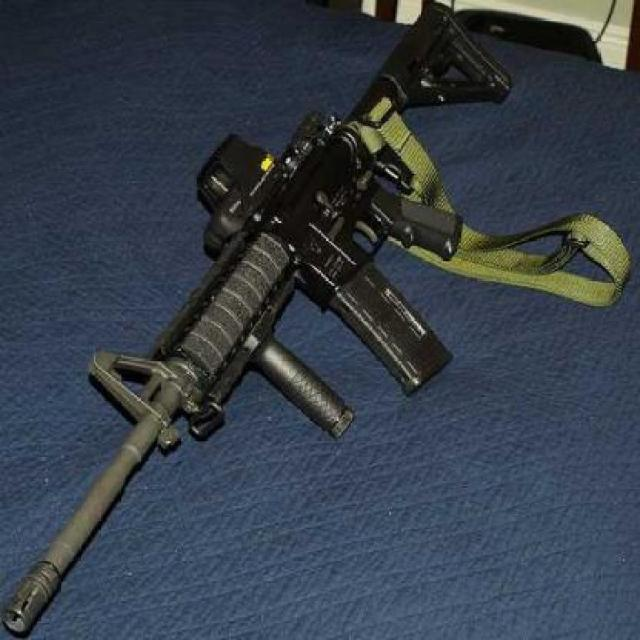weapon: (38, 18, 502, 640)
